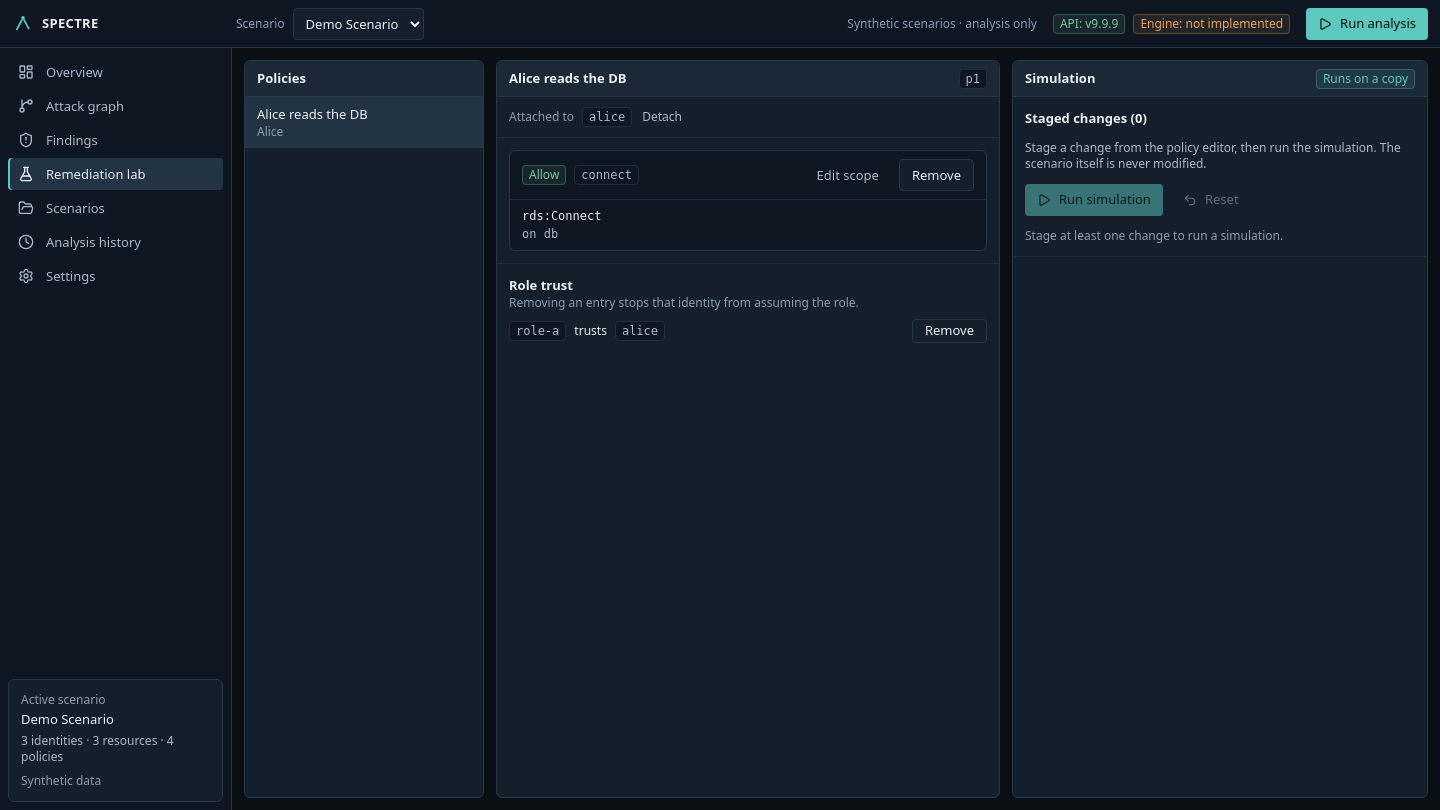
Test: RemediationPage › stages a change, sends it to the API and shows the verdict with the before/after table
Click the button with aria-label "Remove statement connect" at point(936, 175), box [899,159,974,191]
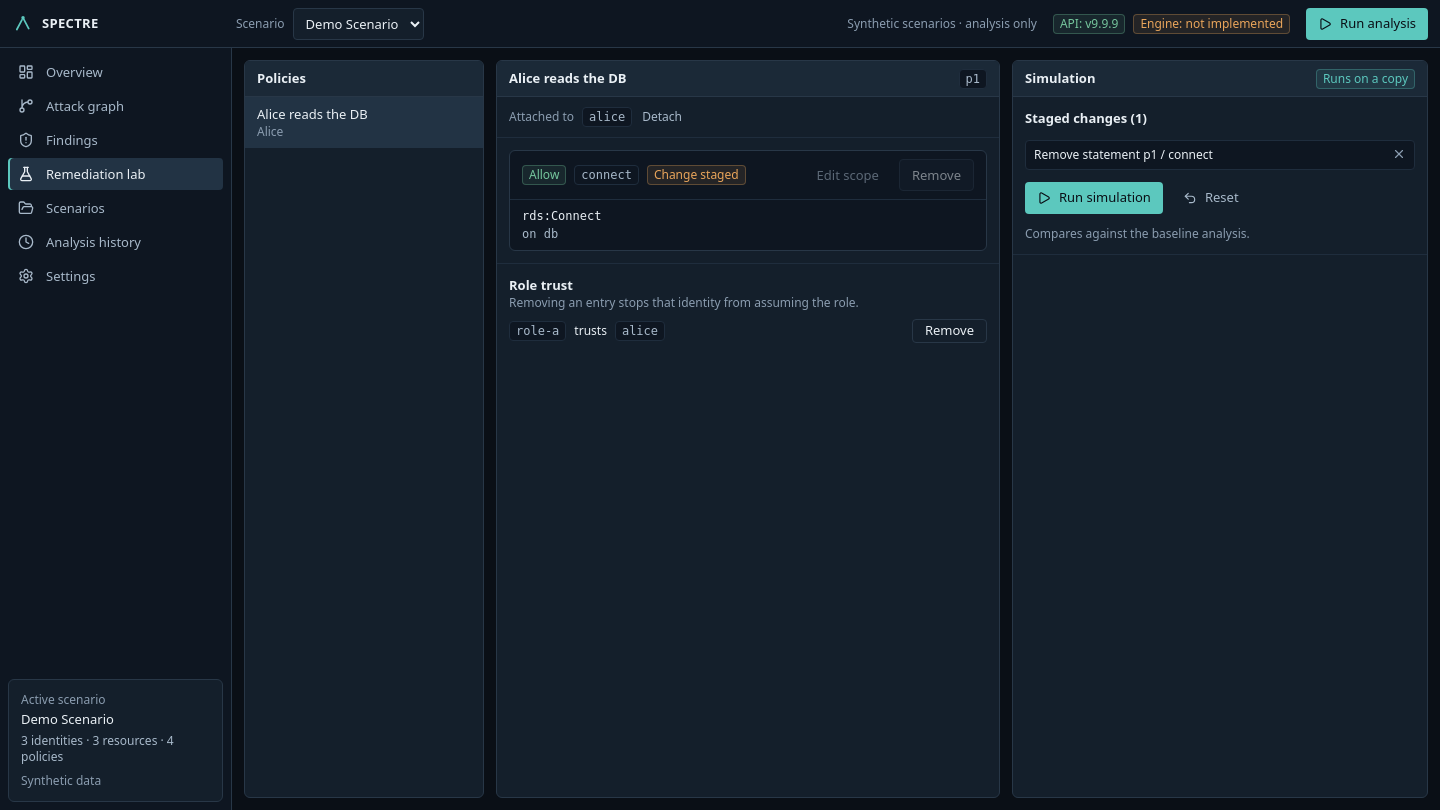
Expected: the text "Remove statement p1 / connect" is shown, [1034,146,1213,163]
Expected: the text "Change staged" is shown, [647,165,746,185]
Click the button "Run simulation" at point(1094, 198), box [1025,182,1163,214]
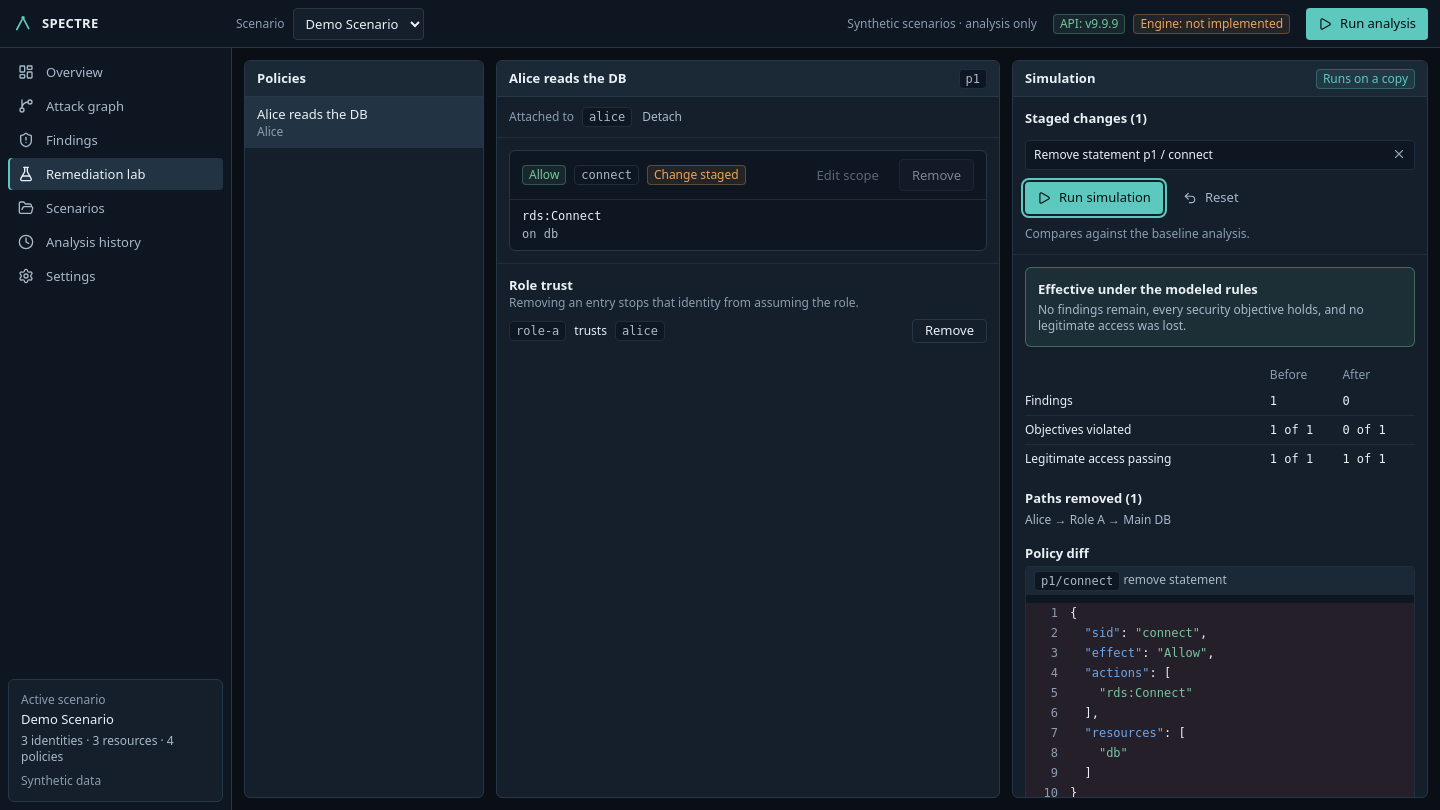
Expected: the text "Effective under the modeled rules" is shown, [1038,280,1258,298]
Expected: the row "Findings 1 0" is shown, [1025,387,1415,416]
Expected: the heading "Policy diff" is shown, [1025,544,1089,562]
